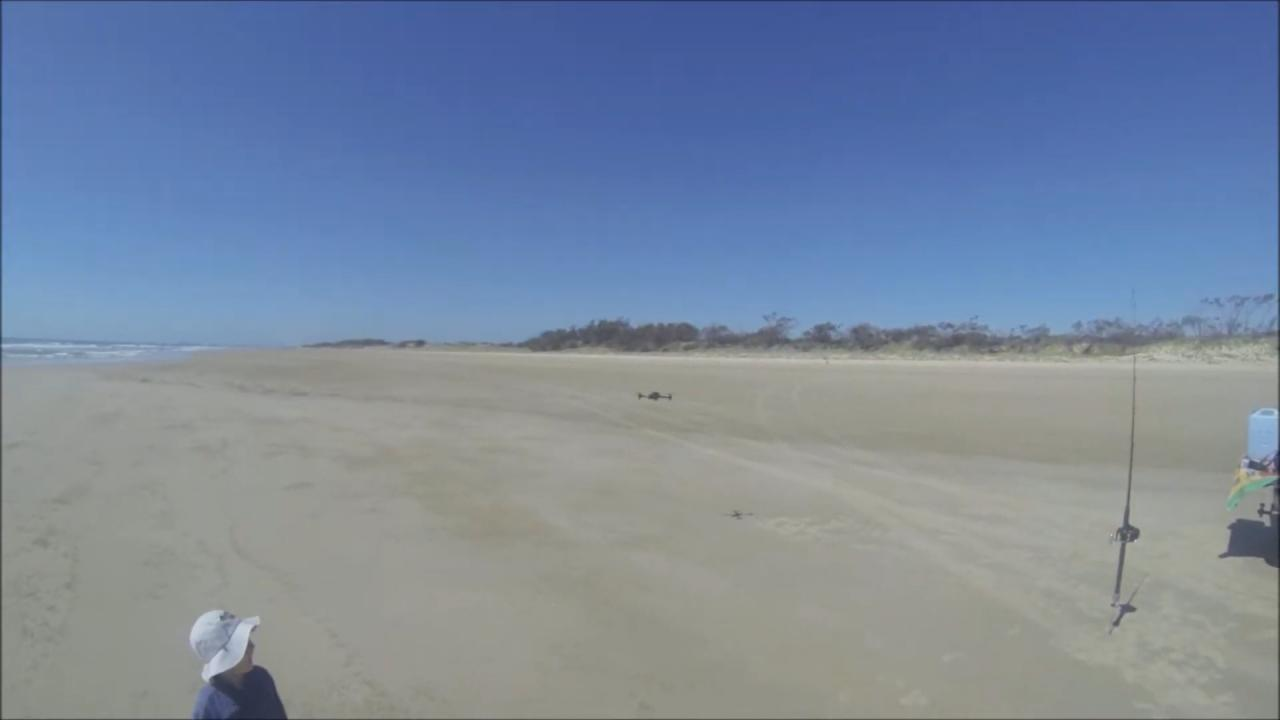Drone: (626, 381, 684, 412)
